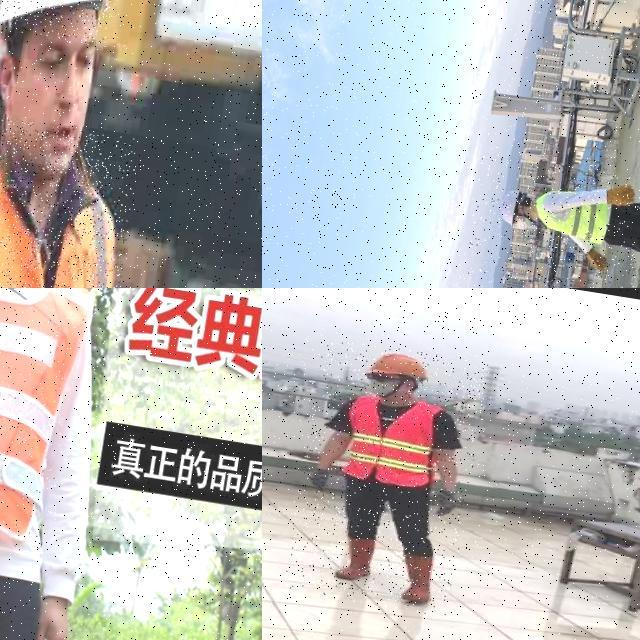boots: (282, 336, 490, 618), (394, 550, 440, 607), (332, 536, 377, 586)
helmet: (0, 0, 128, 48), (366, 348, 432, 386), (492, 184, 526, 232)
vest: (0, 104, 144, 288), (0, 288, 94, 560), (342, 392, 442, 492), (532, 180, 622, 243)
